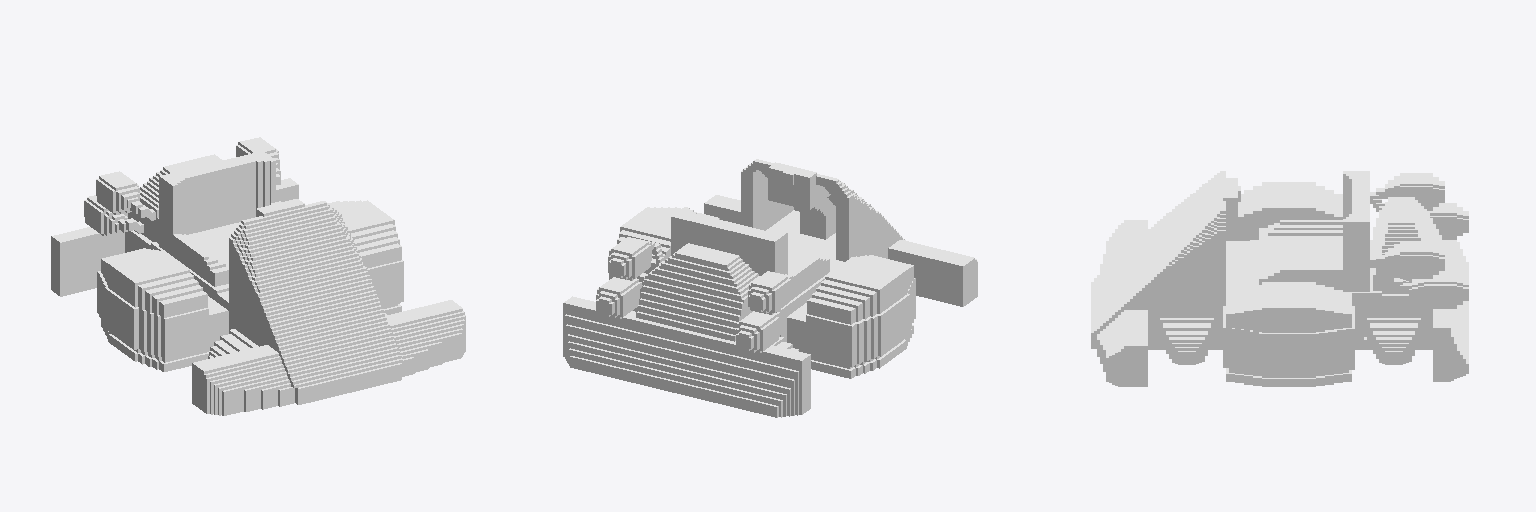
Rendered from Kart.obj.
3 views of the same model, side by side, from view 1: azimuth 30°, elevation 25°; view 2: azimuth 150°, elevation 25°; view 3: azimuth 270°, elevation 25° (orthographic).
Visible parts, largest first — view 1: object 1; view 2: object 1; view 3: object 1.
Boxes of the visible parts, x1=… form: object 1: x1=51, y1=137, x2=465, y2=415; object 1: x1=563, y1=159, x2=977, y2=417; object 1: x1=1091, y1=171, x2=1468, y2=386.
Size of the model in its own units: 10.2 by 5 by 12.6.